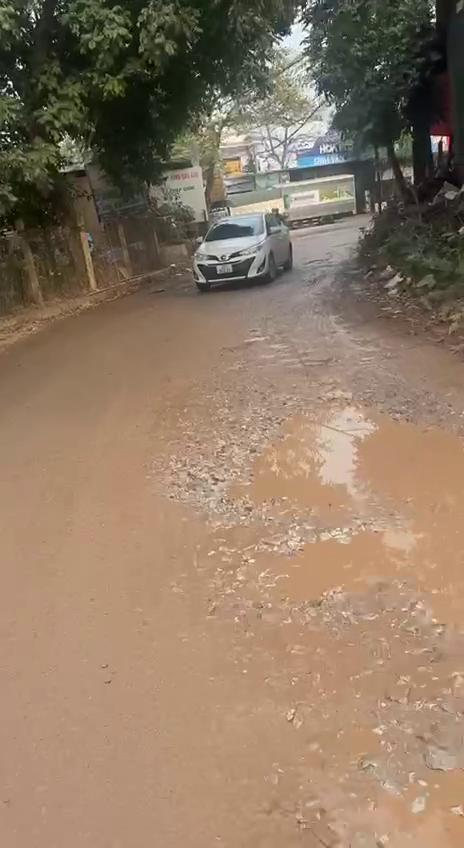pothole: (174, 386, 464, 659), (268, 694, 464, 848)
